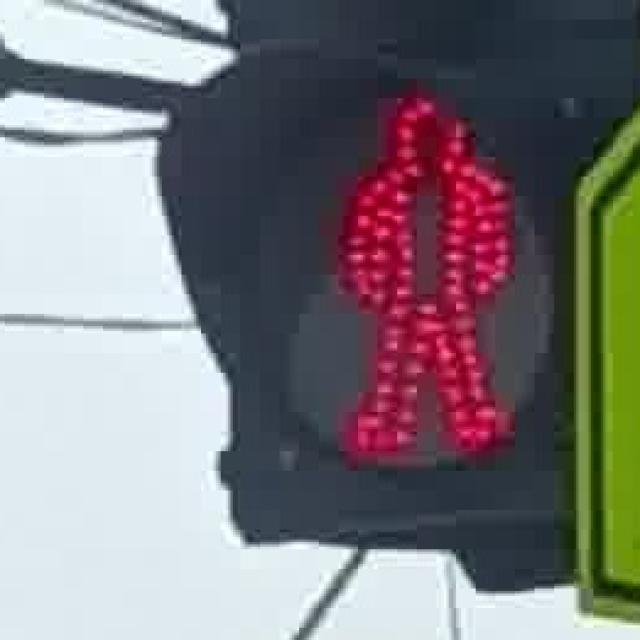red_light: (297, 59, 532, 478)
